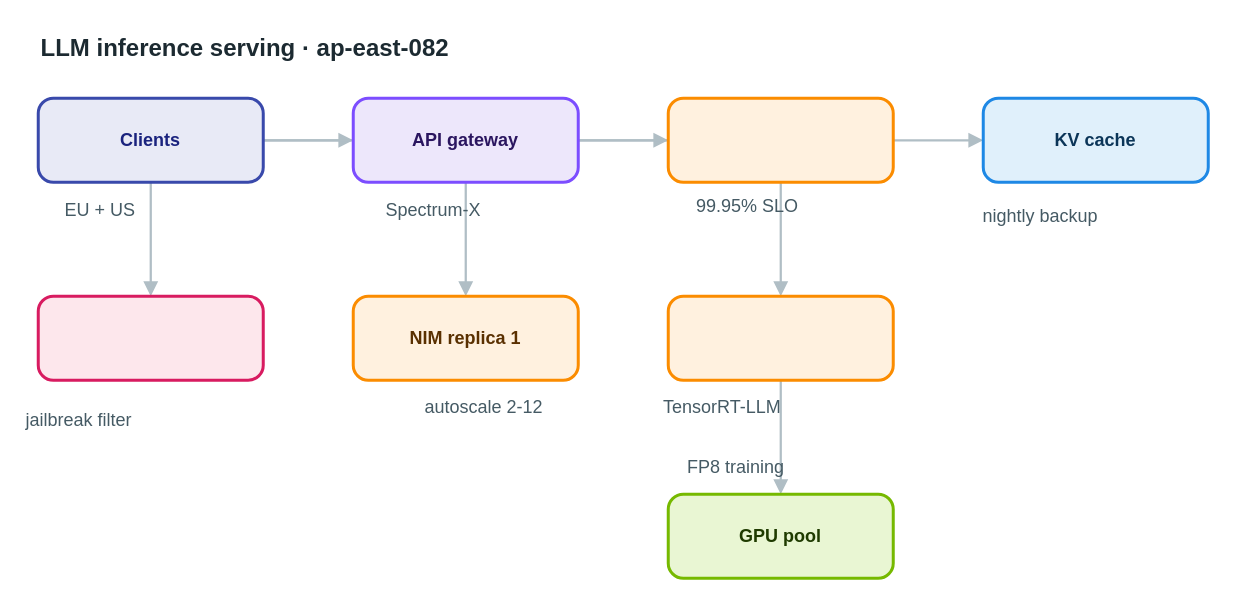
Some shapes in this 1235 by 605 pixel diagram are drawn without their labels. Each missing label, with the centre of its shape:
"Guardrails" belongs at (150,337).
"NIM replica 2" belongs at (780,337).
"Router" belongs at (780,139).
